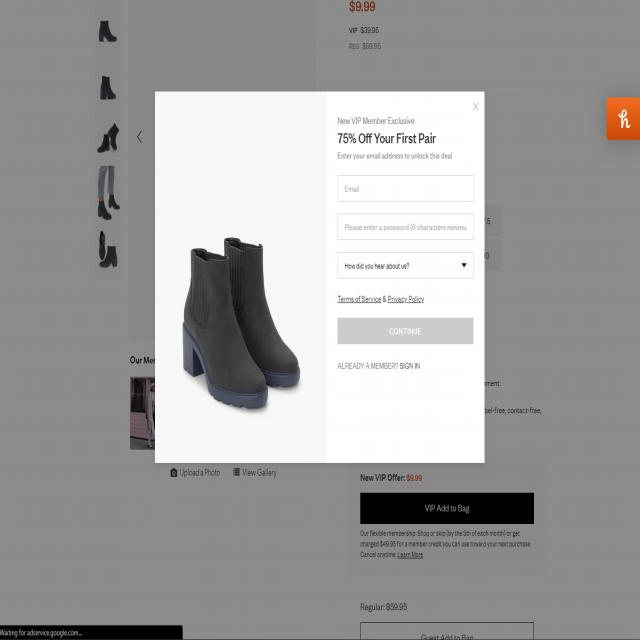sneaking: (148, 83, 492, 477)
